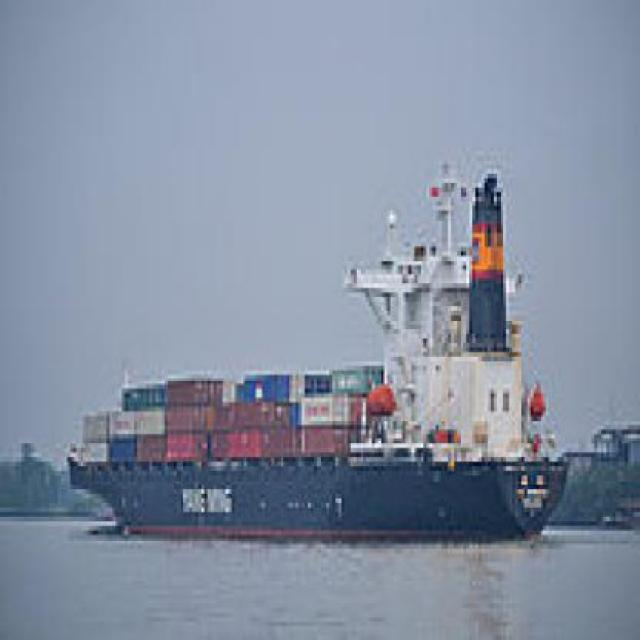container: (59, 161, 574, 555)
